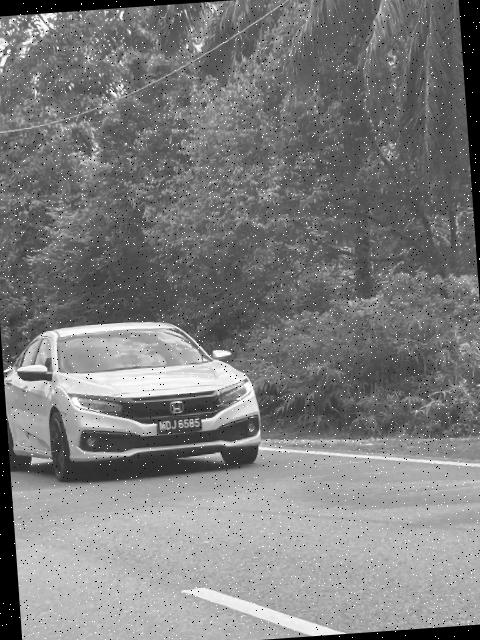License_Plate: (157, 417, 203, 435)
car: (1, 307, 263, 487)
